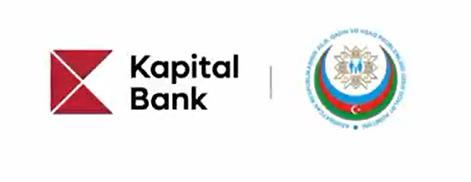Kapital Bank: (46, 46, 115, 116)
